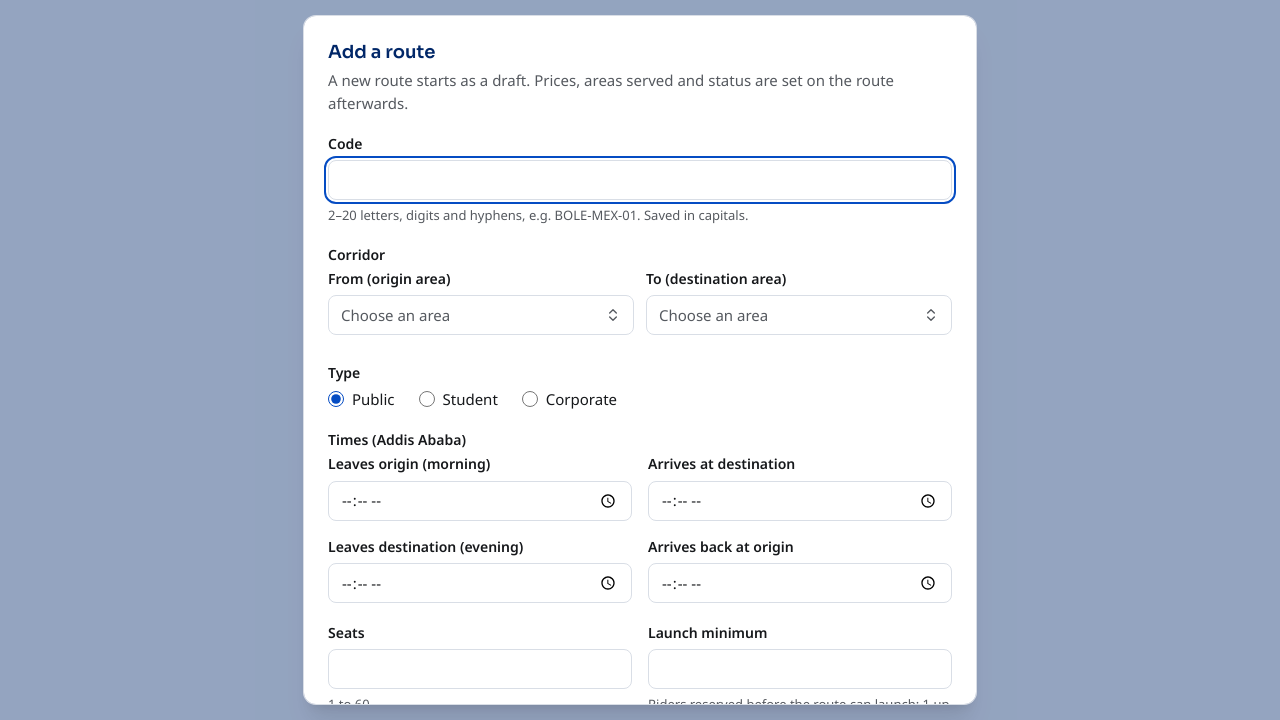
Test: RouteFormDialog › checks the fields before sending and focuses the first problem
Type "-bad" into the field labelled "Code" at [640, 180], box [328,160,952,200]
Click the radio button labelled "Student" at [426, 399], box [418,391,434,407]
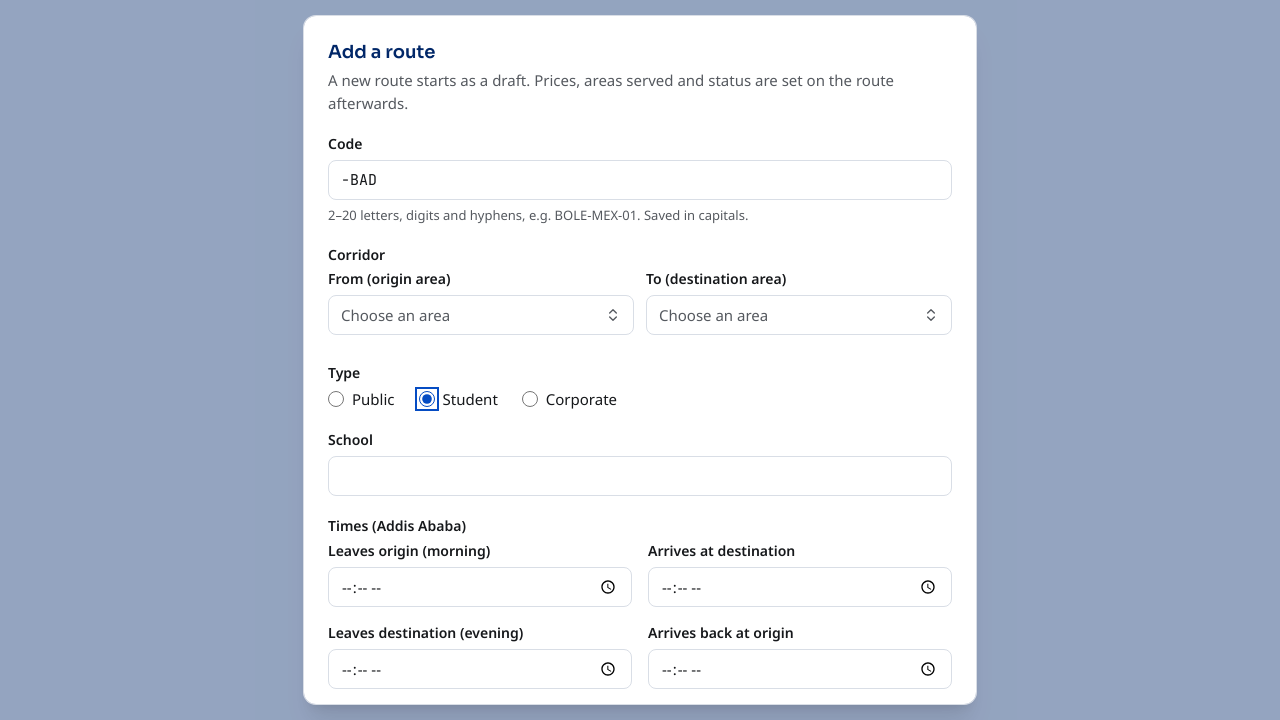
Type "08:00" into the time field labelled "Leaves origin (morning)" at [480, 587], box [328,567,632,607]
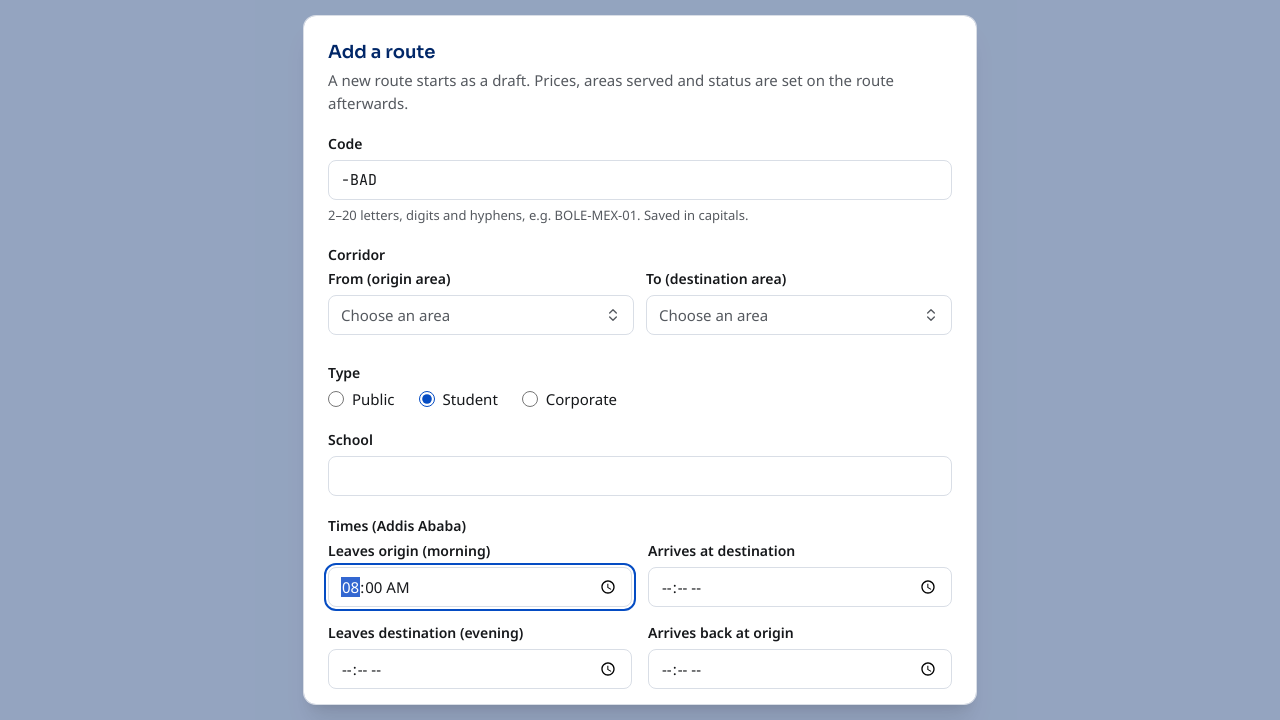
Type "07:00" into the time field labelled "Arrives at destination" at [800, 587], box [648,567,952,607]
(page scrolled)
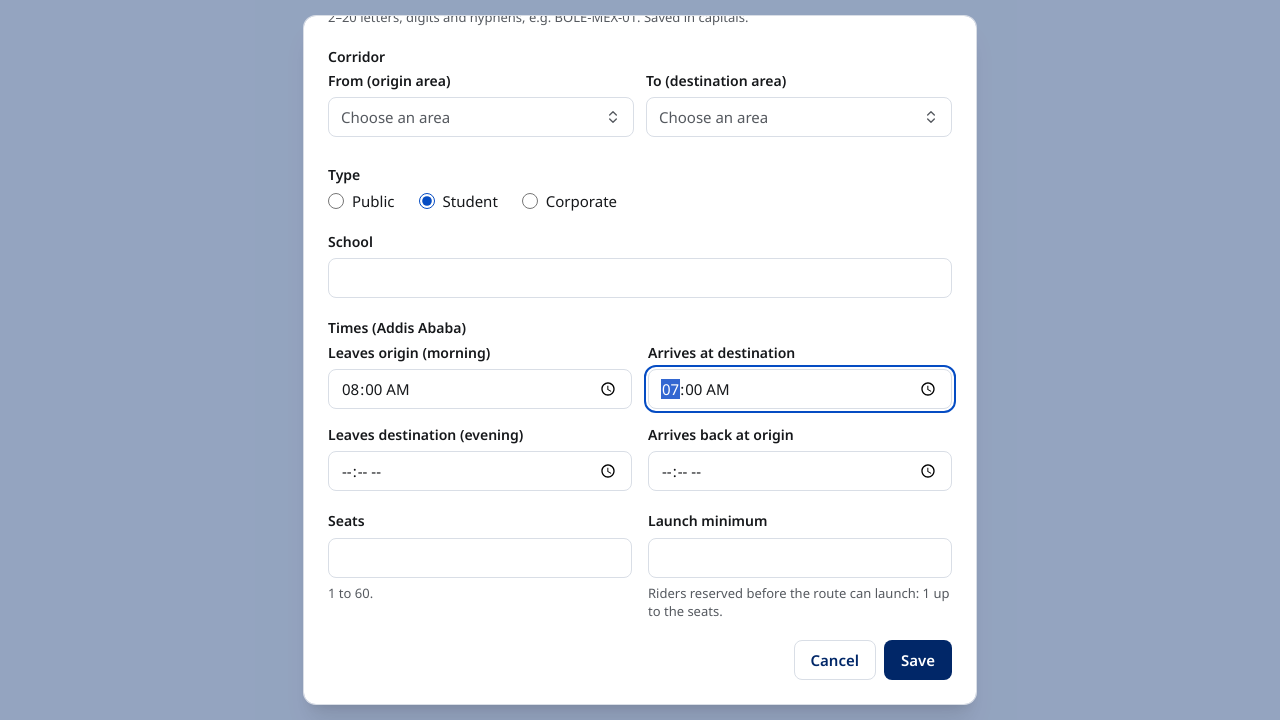
Type "8" into the number field labelled "Seats" at [480, 558], box [328,538,632,578]
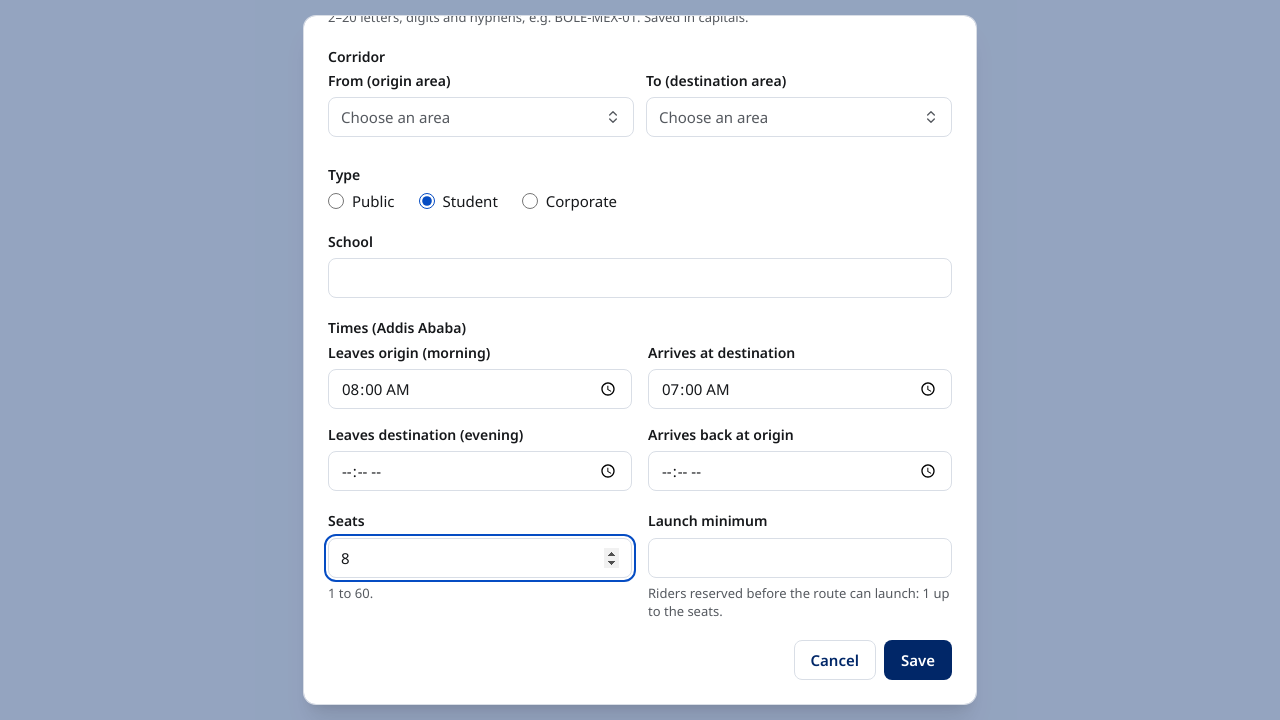
Type "9" into the number field labelled "Launch minimum" at [800, 558], box [648,538,952,578]
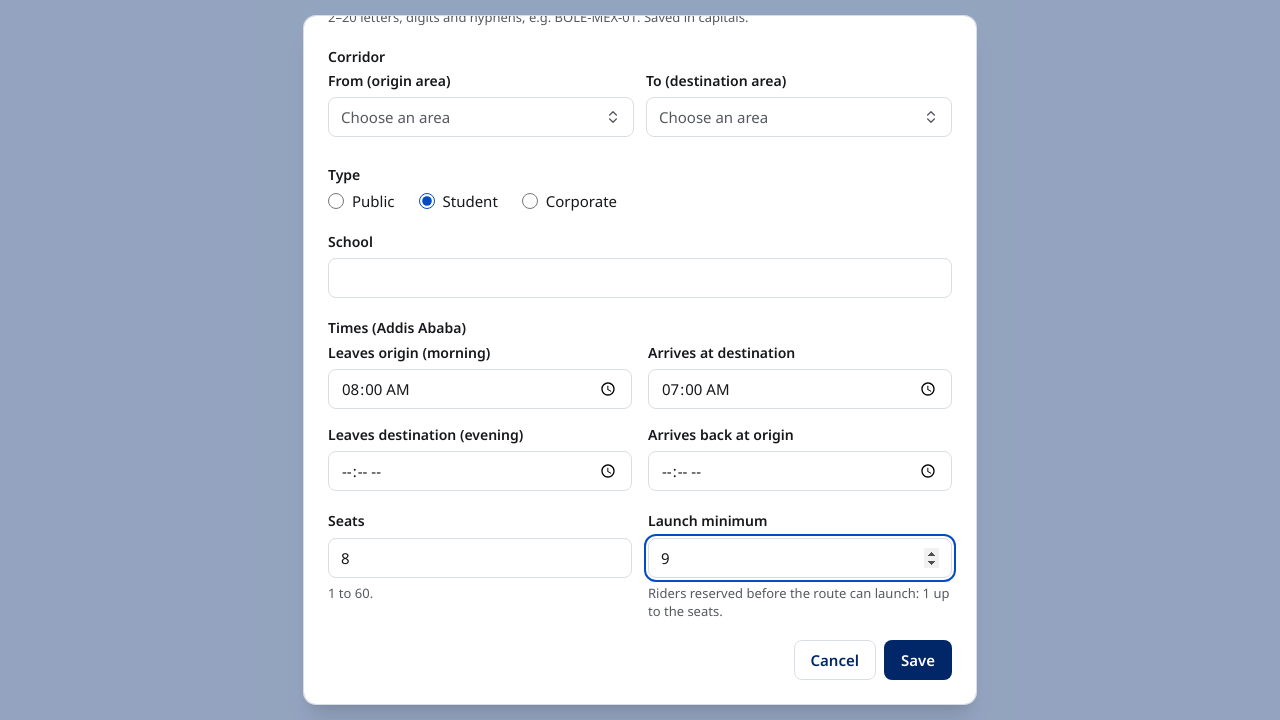
Click the button "Save" at [918, 660], box [884,640,952,680]
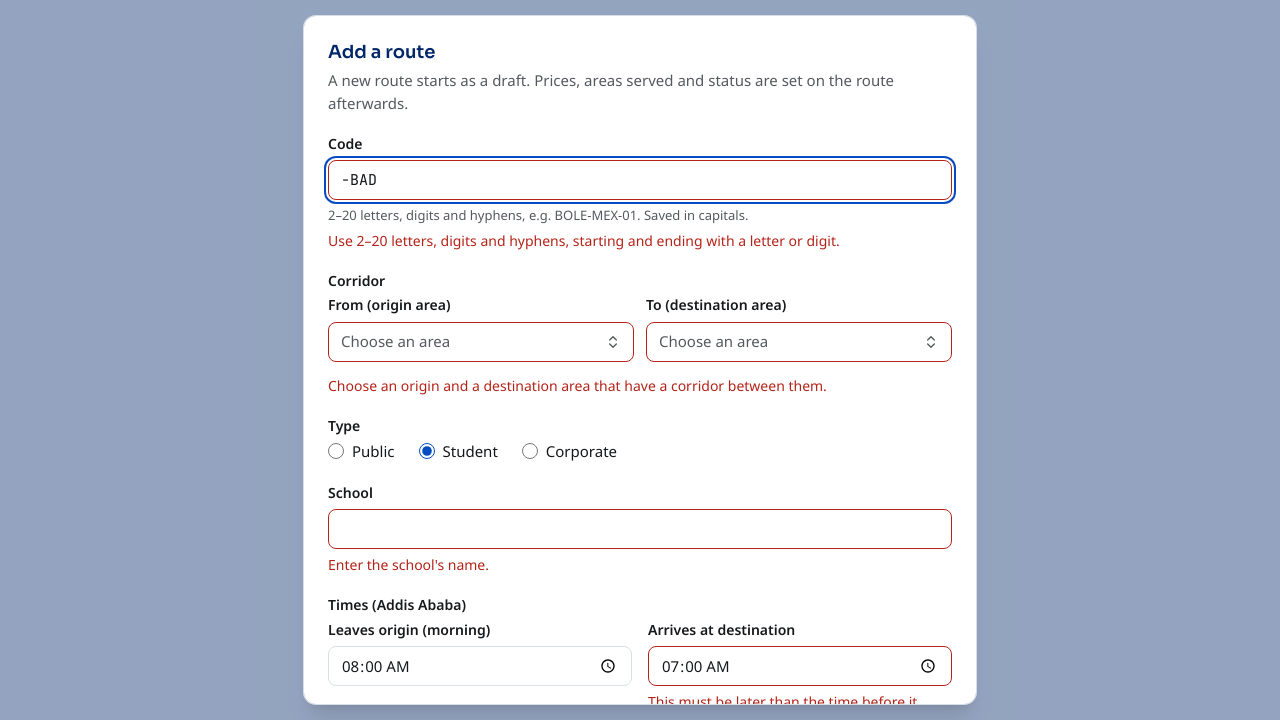
Now the text "Choose an origin and a destination area that have a corridor between them." is shown, box [328,376,827,395]
